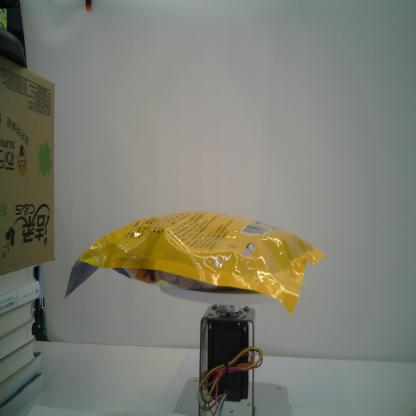Dried Food: (62, 208, 325, 316)
